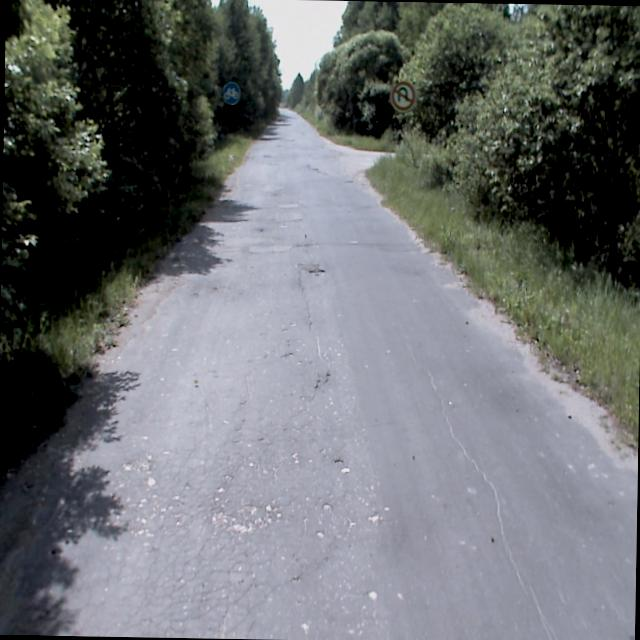road: (0, 107, 637, 640)
